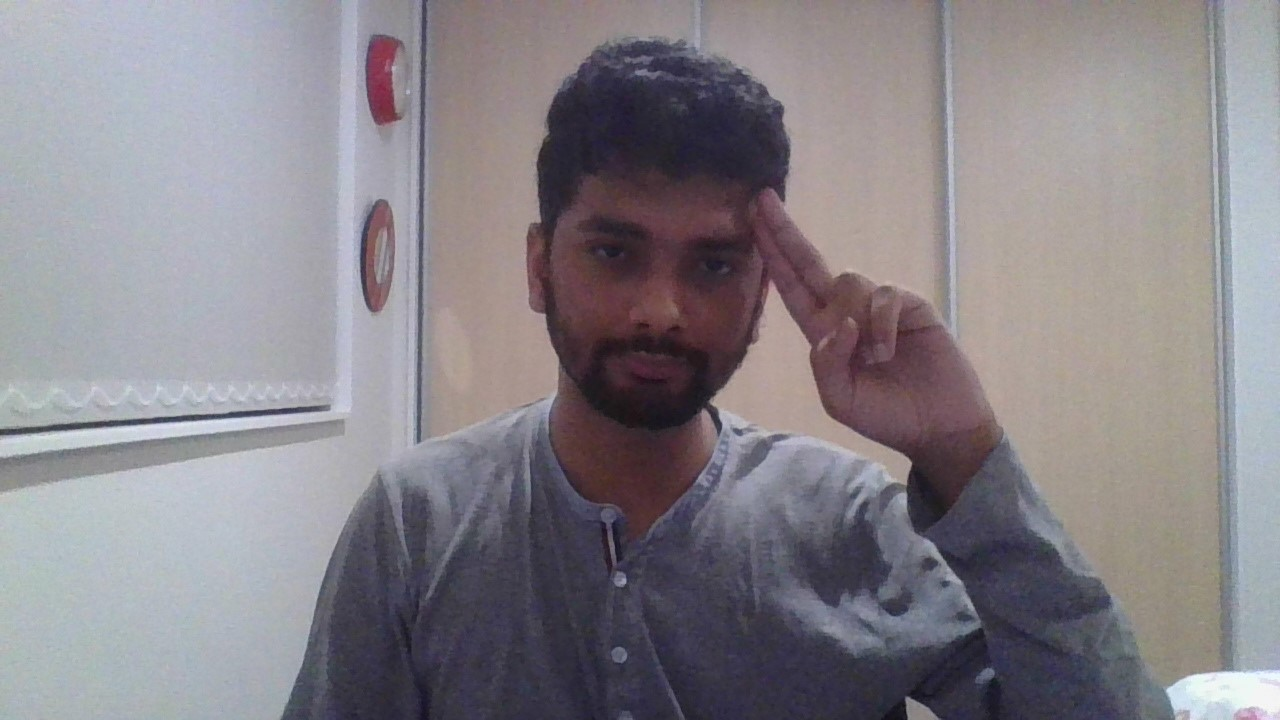peace: (745, 187, 985, 451)
